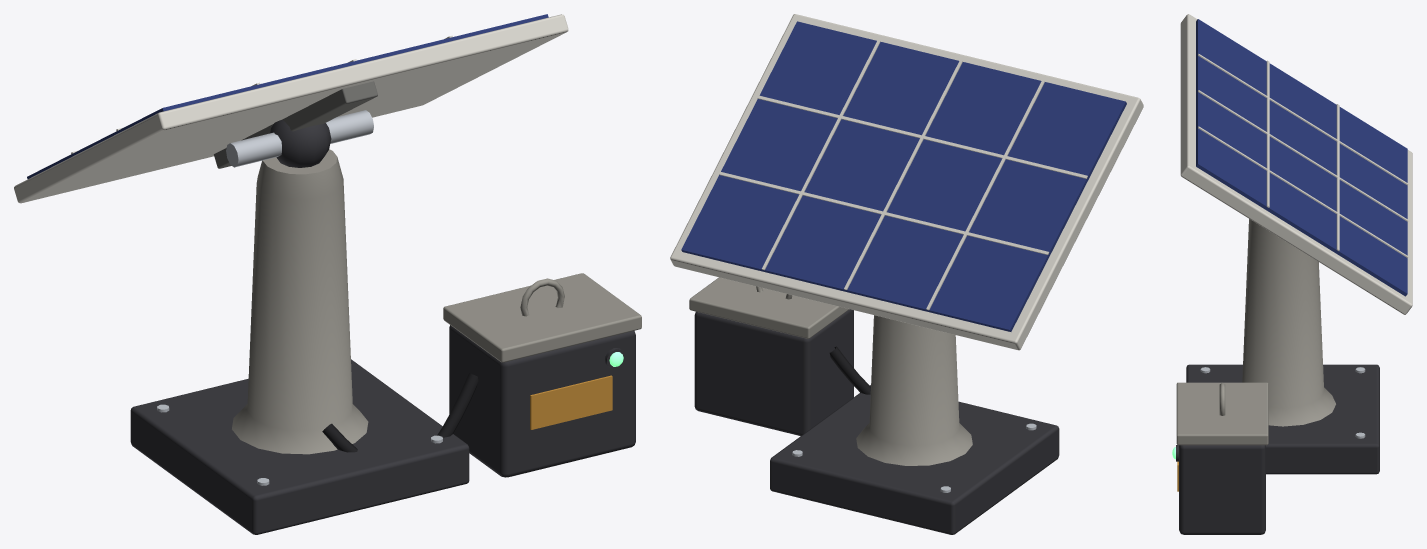
Rendered from station_S.glb.
The picture shows the model from 3 angles, left to right: view 1: azimuth 30°, elevation 25°; view 2: azimuth 150°, elevation 25°; view 3: azimuth 270°, elevation 25°; orthographic projection. The views are drawn at different scales.
Visible parts, largest first — view 1: station_S_graph, station_S_grey, tilt_white, battery_label, axle, rib, cells, pivot, cable; view 2: cells, station_S_graph, tilt_white, station_S_grey, cable; view 3: cells, station_S_grey, station_S_graph, tilt_white.
Part boxes in pixels (x1=…): station_S_graph: x1=130, y1=325, x2=635, y2=534; station_S_grey: x1=232, y1=149, x2=641, y2=454; tilt_white: x1=14, y1=14, x2=568, y2=203; battery_label: x1=530, y1=375, x2=612, y2=429; axle: x1=226, y1=110, x2=373, y2=167; rib: x1=213, y1=81, x2=377, y2=168; cells: x1=27, y1=14, x2=548, y2=178; pivot: x1=270, y1=120, x2=331, y2=167; cable: x1=322, y1=373, x2=478, y2=452; cells: x1=681, y1=21, x2=1126, y2=331; station_S_graph: x1=694, y1=309, x2=1059, y2=534; tilt_white: x1=670, y1=14, x2=1143, y2=350; station_S_grey: x1=689, y1=277, x2=972, y2=465; cable: x1=829, y1=346, x2=870, y2=394; cells: x1=1196, y1=19, x2=1407, y2=296; station_S_grey: x1=1176, y1=219, x2=1335, y2=445; station_S_graph: x1=1176, y1=364, x2=1379, y2=534; tilt_white: x1=1180, y1=14, x2=1412, y2=314.
Bounding box in the file's own units: 1.76 × 1.57 × 0.9941.
